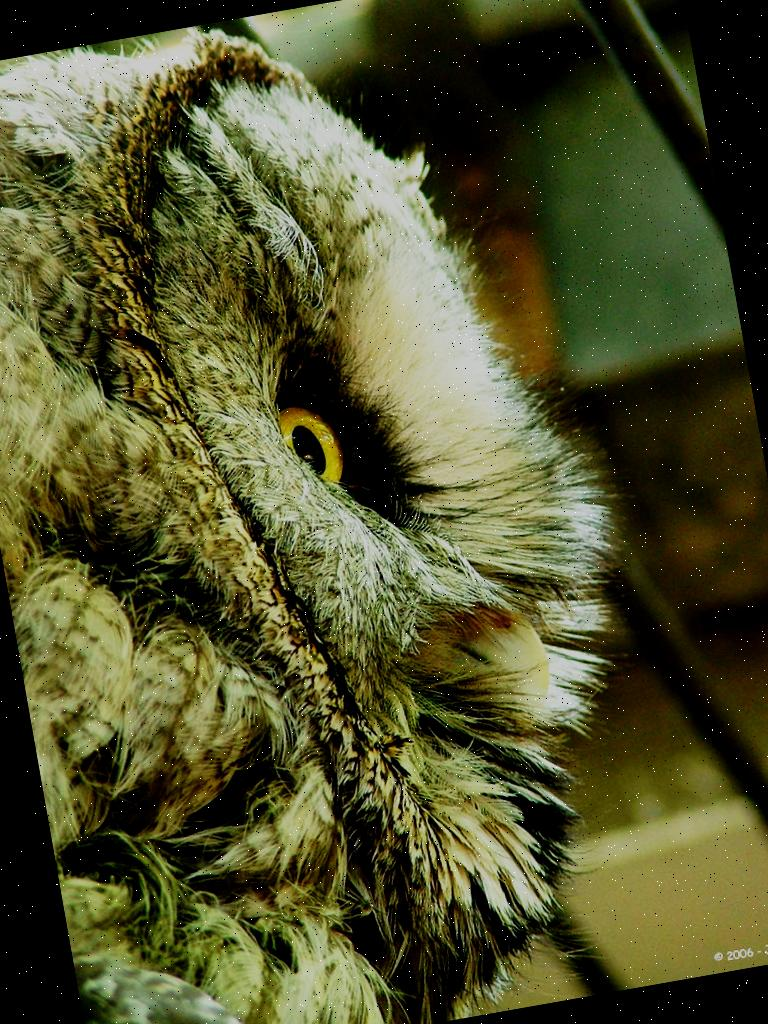Owl: (0, 0, 697, 1024)
